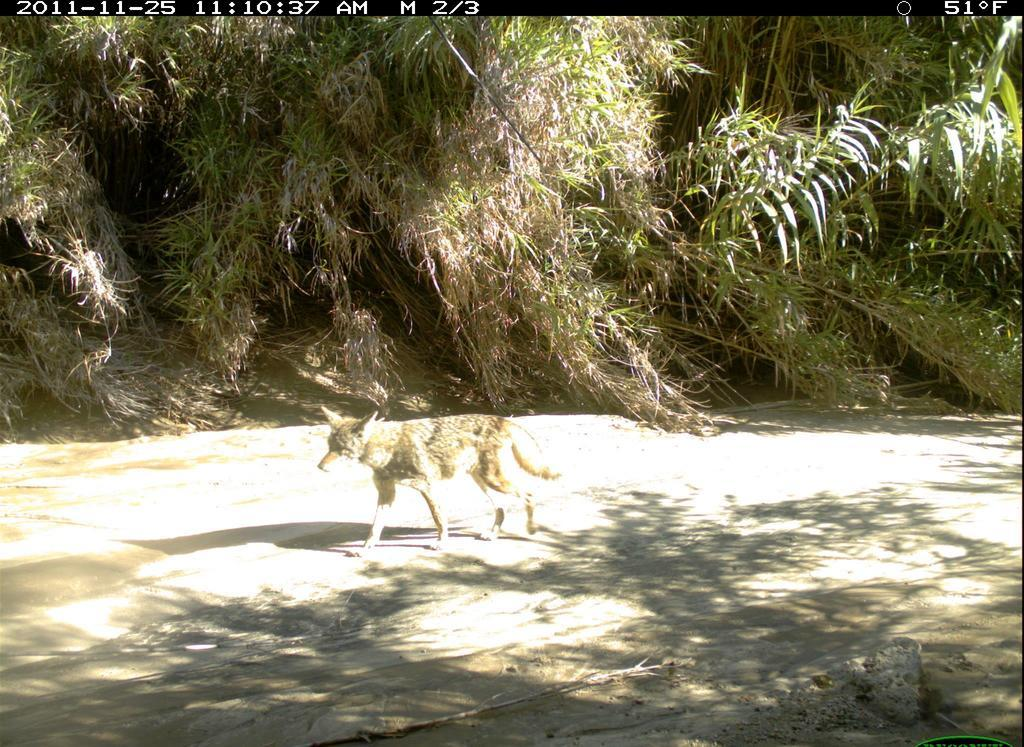coyote: (313, 399, 569, 564)
